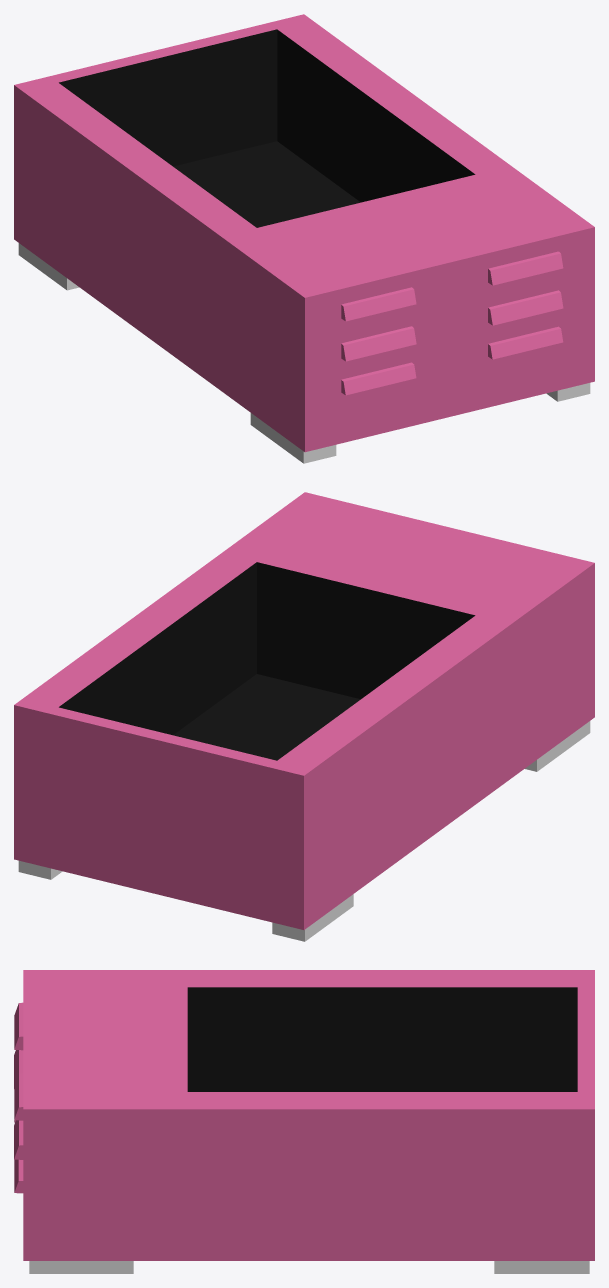
The model's file is waterbathv2.fbx.
3 renders of one model, top to bottom at view 1: azimuth 30°, elevation 25°; view 2: azimuth 150°, elevation 25°; view 3: azimuth 270°, elevation 25°, orthographic.
Visible parts, largest first — view 1: Cube; view 2: Cube; view 3: Cube.
Boxes of the visible parts, x1=… form: Cube: x1=14, y1=14, x2=594, y2=463; Cube: x1=14, y1=492, x2=594, y2=941; Cube: x1=14, y1=970, x2=594, y2=1273.
Size of the model in its own units: 814 by 452 by 1437.
